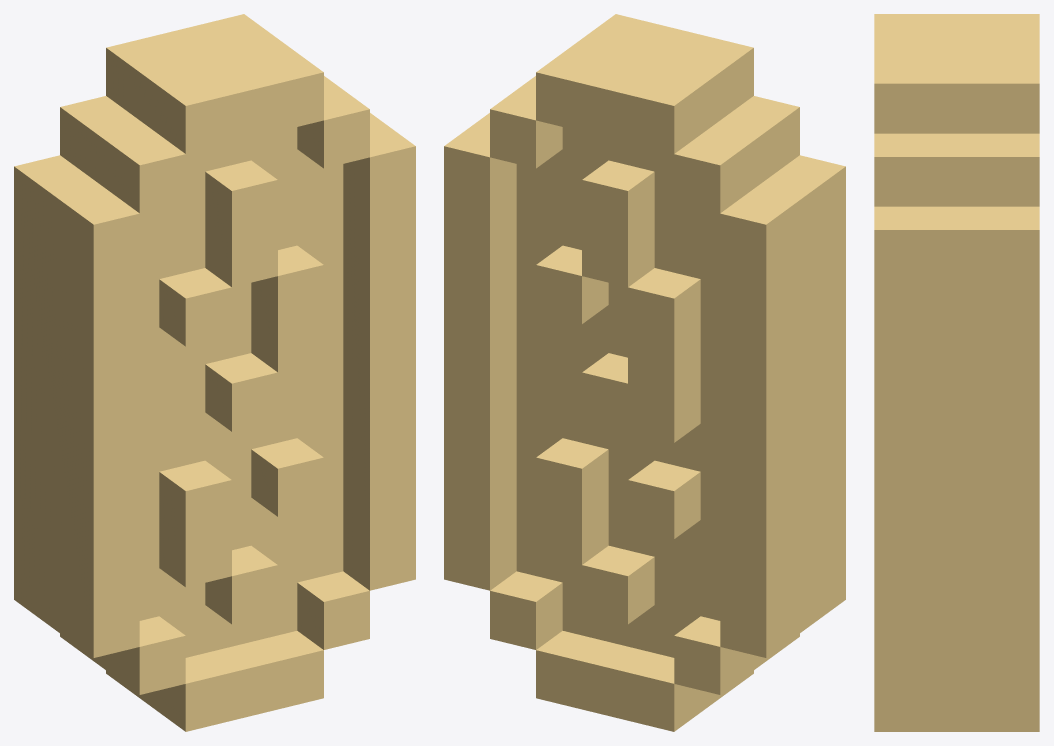
The model's file is BS_Coin_Big_2.fbx.
3 views of the same model, side by side, from view 1: azimuth 30°, elevation 25°; view 2: azimuth 150°, elevation 25°; view 3: azimuth 270°, elevation 25° (orthographic). The views are drawn at different scales.
Visible parts, largest first — view 1: BS_Coin_Big_2; view 2: BS_Coin_Big_2; view 3: BS_Coin_Big_2.
Boxes of the visible parts, x1,y1,x2,y2 form: BS_Coin_Big_2: (14, 14, 415, 731); BS_Coin_Big_2: (444, 14, 845, 731); BS_Coin_Big_2: (874, 14, 1039, 731).
Size of the model in its own units: 17.5 by 7.5 by 32.5.
